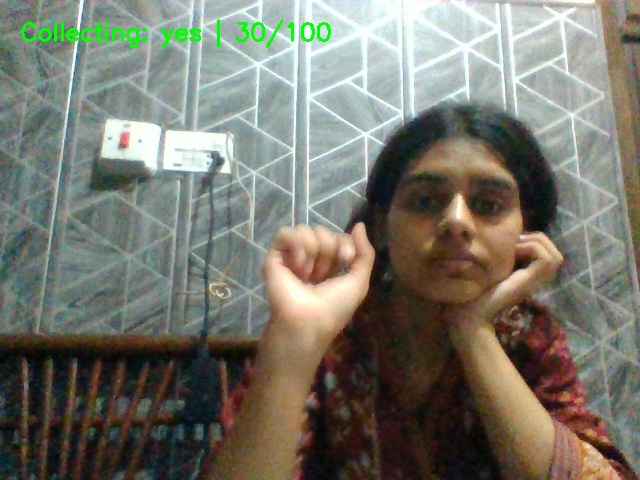yes: (231, 202, 402, 428)
